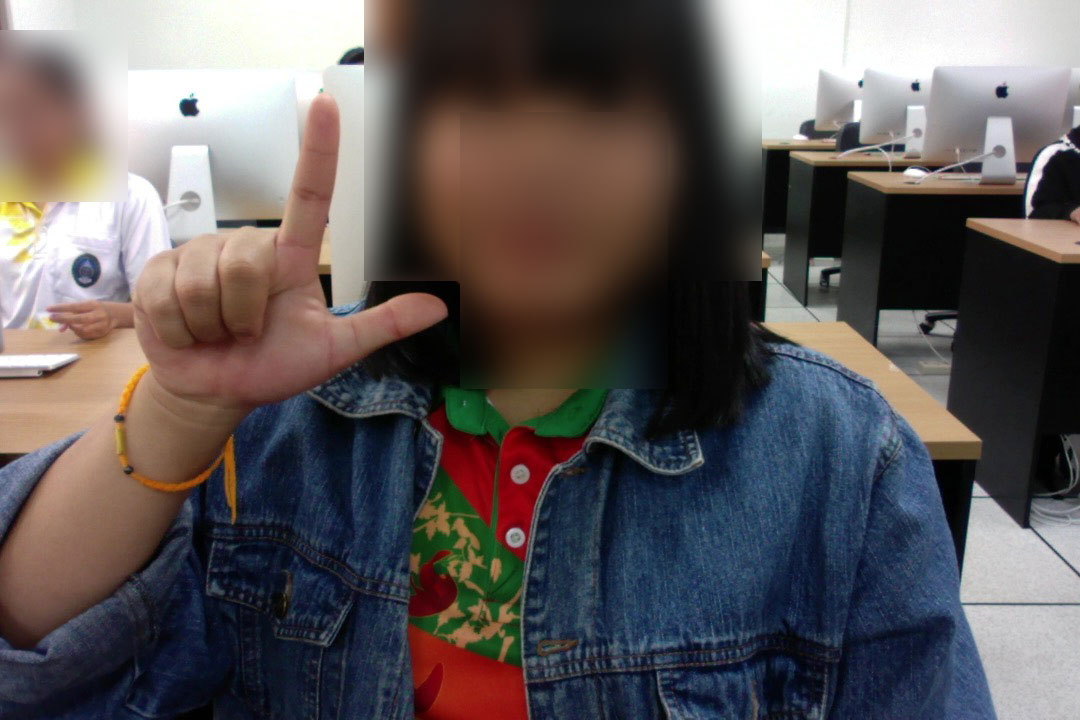lor: (113, 84, 460, 425)
